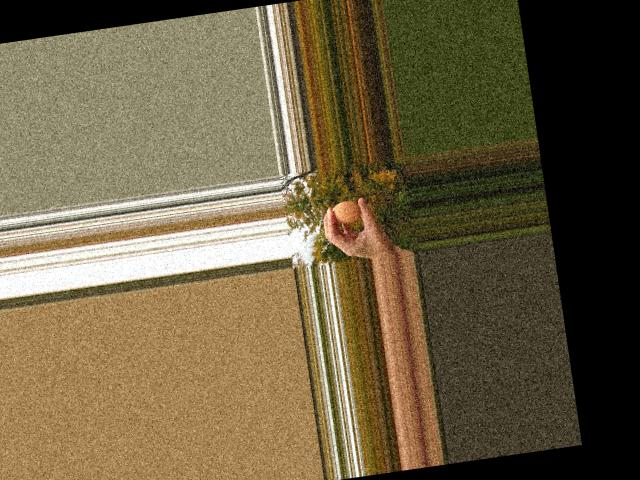egg: (330, 199, 362, 224)
